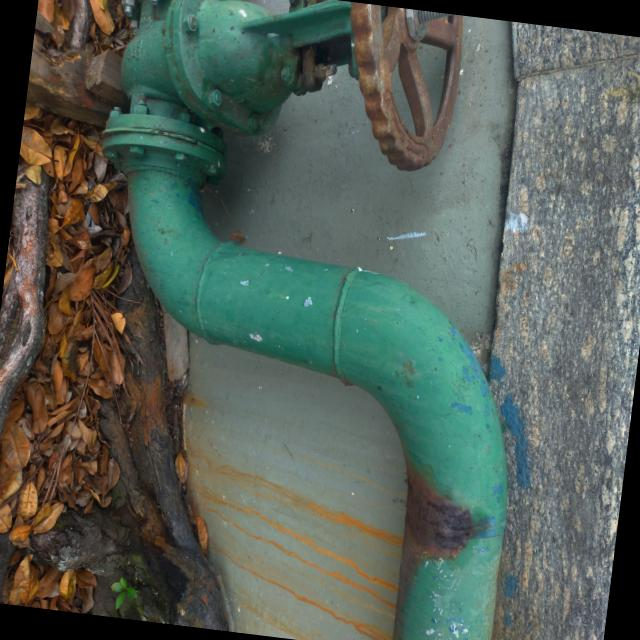gas: (55, 133, 546, 640)
